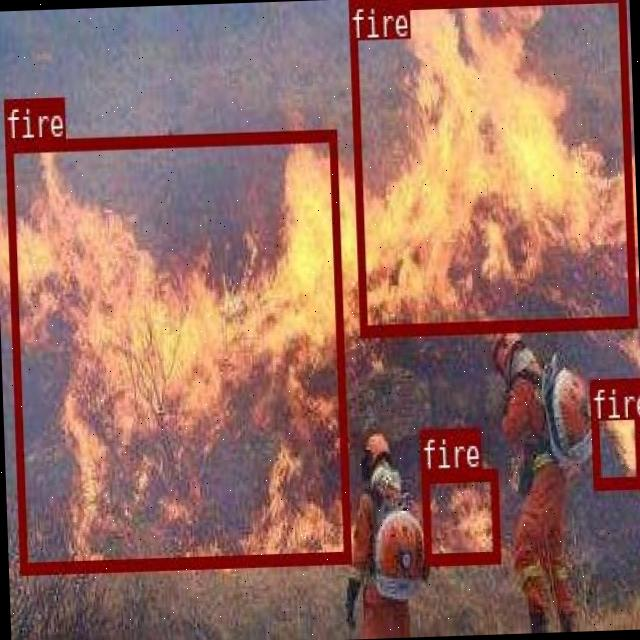fire: (4, 128, 348, 570), (347, 0, 634, 332), (420, 468, 498, 562), (589, 377, 640, 488)
